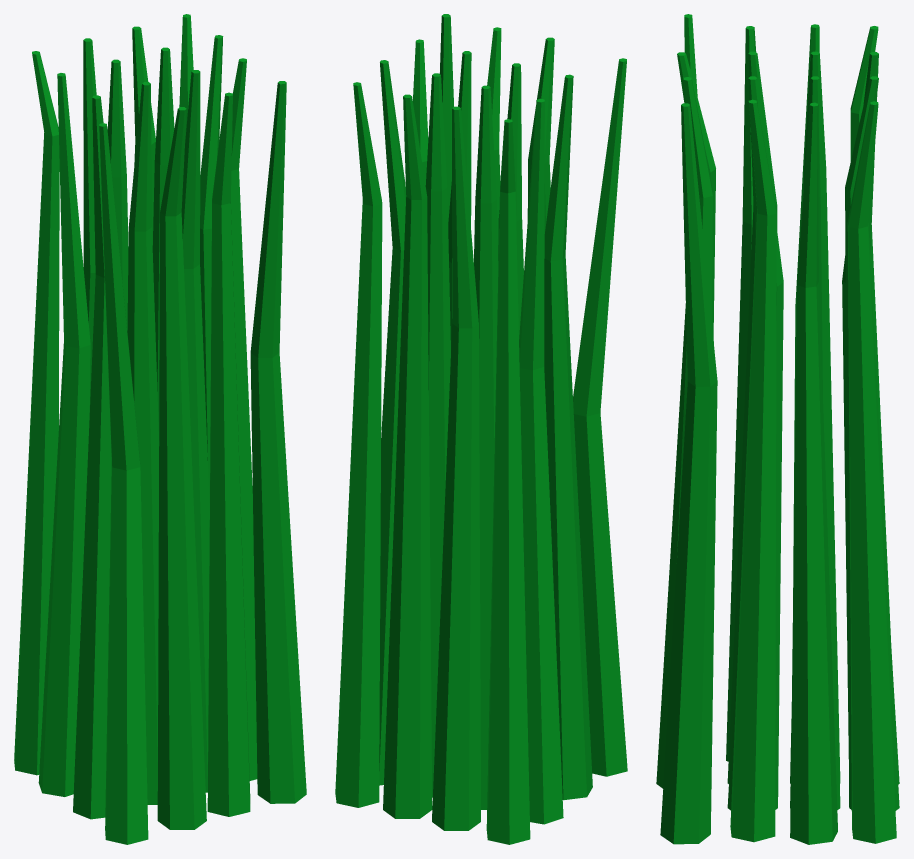
The model's file is grass1.glb.
The picture shows the model from 3 angles, left to right: view 1: azimuth 30°, elevation 25°; view 2: azimuth 150°, elevation 25°; view 3: azimuth 270°, elevation 25°; orthographic projection. The views are drawn at different scales.
Parts seen in each view (by area): view 1: Cylinder.049; view 2: Cylinder.049; view 3: Cylinder.049.
Part boxes in pixels (left/top/right/bottom): Cylinder.049: left=14, top=14, right=306, bottom=844; Cylinder.049: left=335, top=14, right=627, bottom=844; Cylinder.049: left=656, top=14, right=899, bottom=844.
Size of the model in its own units: 0.1598 by 0.5388 by 0.1627.
